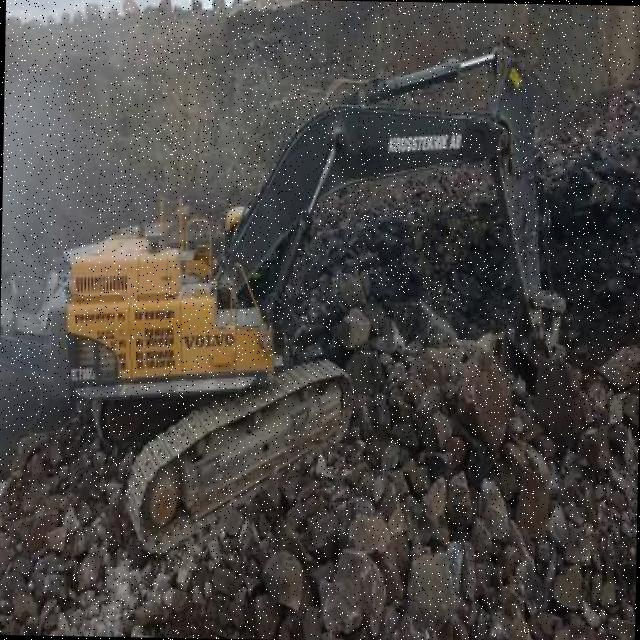Excavator: (60, 36, 567, 562)
